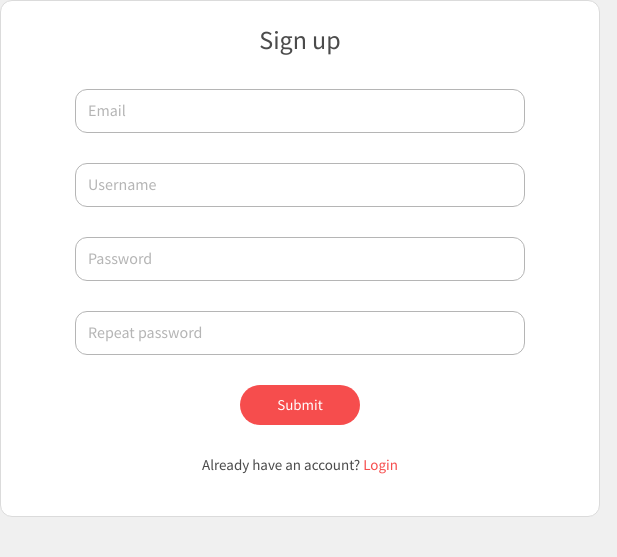
Test: SignUpForm › shows the minimum-length message for a password under 8 characters
Type "user@example.com" into the field with placeholder "Email" at point(300, 111), box [75,89,525,133]
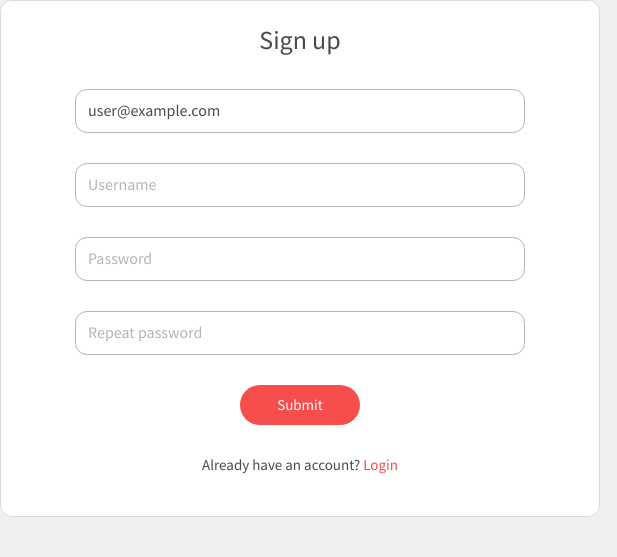
Type "johndoe" into the field with placeholder "Username" at point(300, 185), box [75,163,525,207]
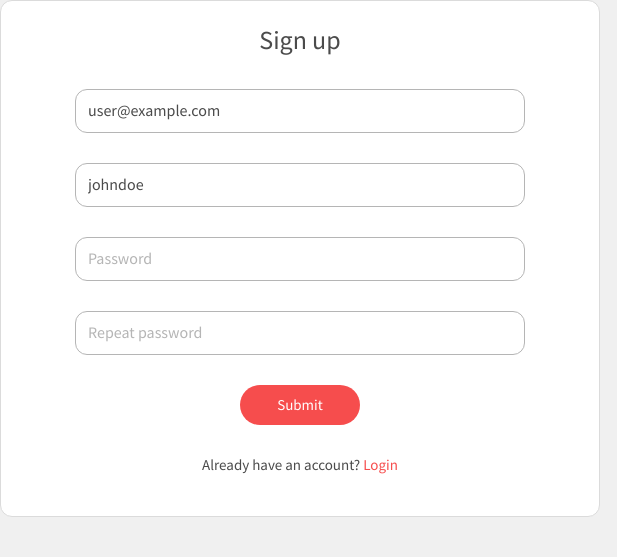
Type "short1" into the password field with placeholder "Password" at point(300, 259), box [75,237,525,281]
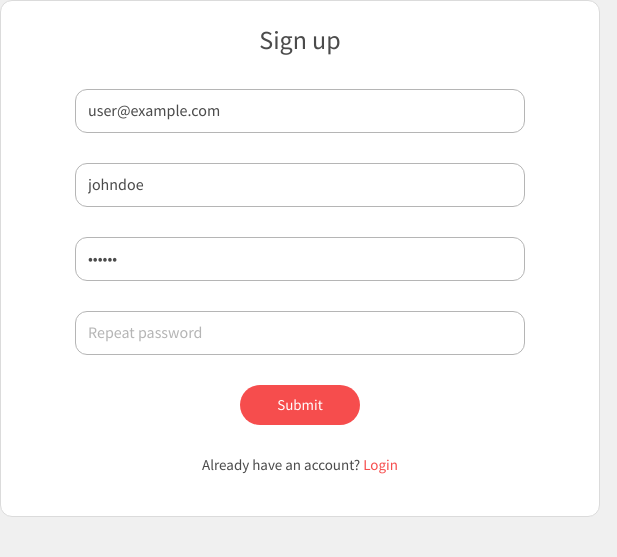
Type "short1" into the password field with placeholder "Repeat password" at point(300, 333), box [75,311,525,355]
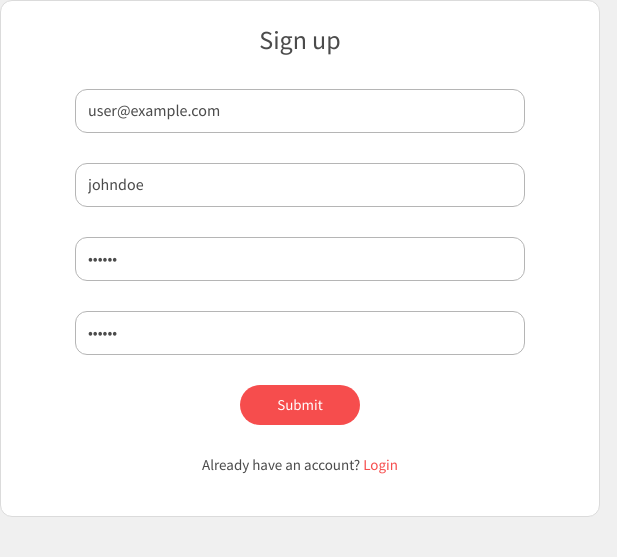
Click the button "Submit" at point(300, 405), box [240,385,360,425]
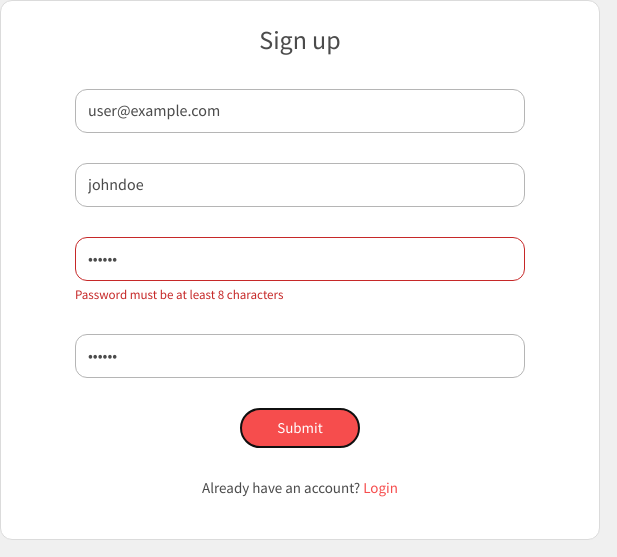
Now the text "Password must be at least 8 characters" is shown, box [75,287,284,304]
